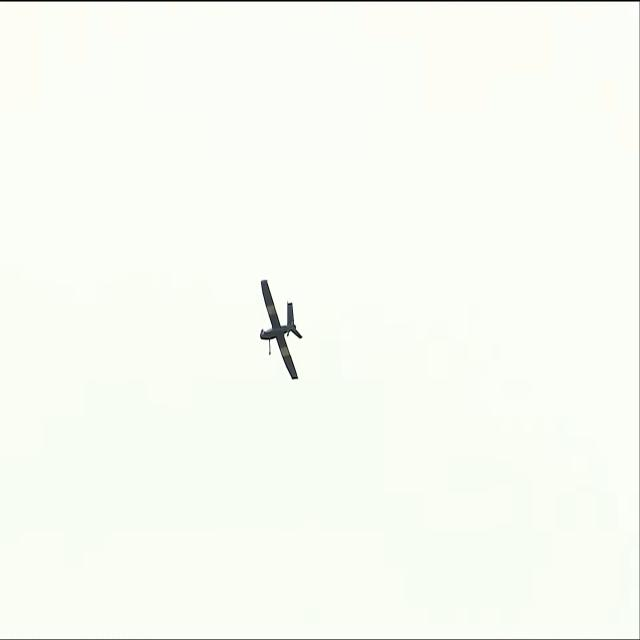iha: (259, 307, 302, 344)
